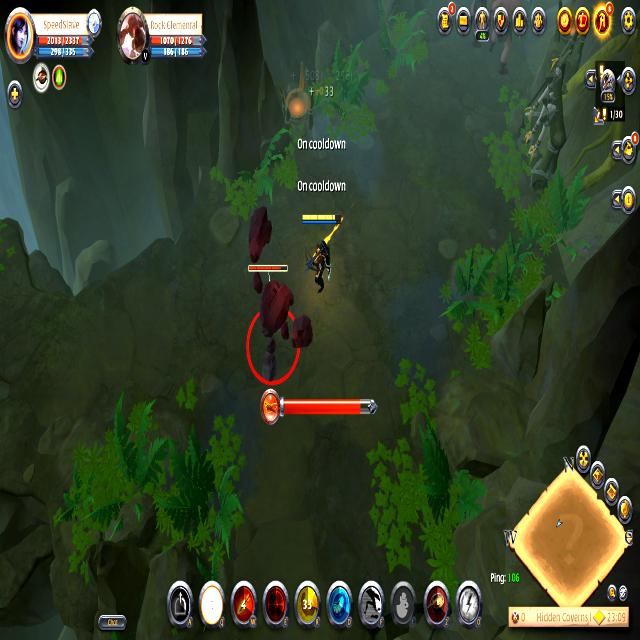ore: (244, 210, 313, 407), (483, 2, 528, 80), (468, 0, 491, 59)
red: (299, 202, 339, 306)
